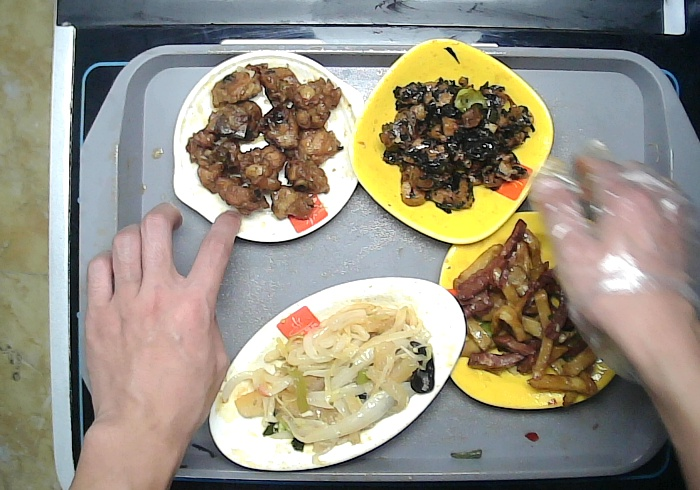SHKJ-Bao_Yu_Pan: (165, 47, 371, 248)
SHKJ-Huang_Se_Cai_Die: (348, 32, 554, 250)
SHKJ-Huang_Se_Si_Fang_Cai_Die: (432, 207, 638, 413)
SHKJ-Yu_Pan: (204, 275, 466, 475)
